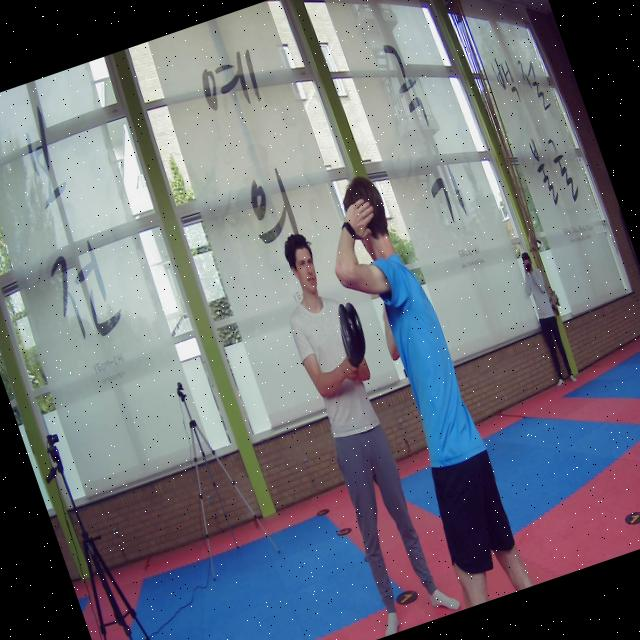paddle: (336, 301, 366, 366)
